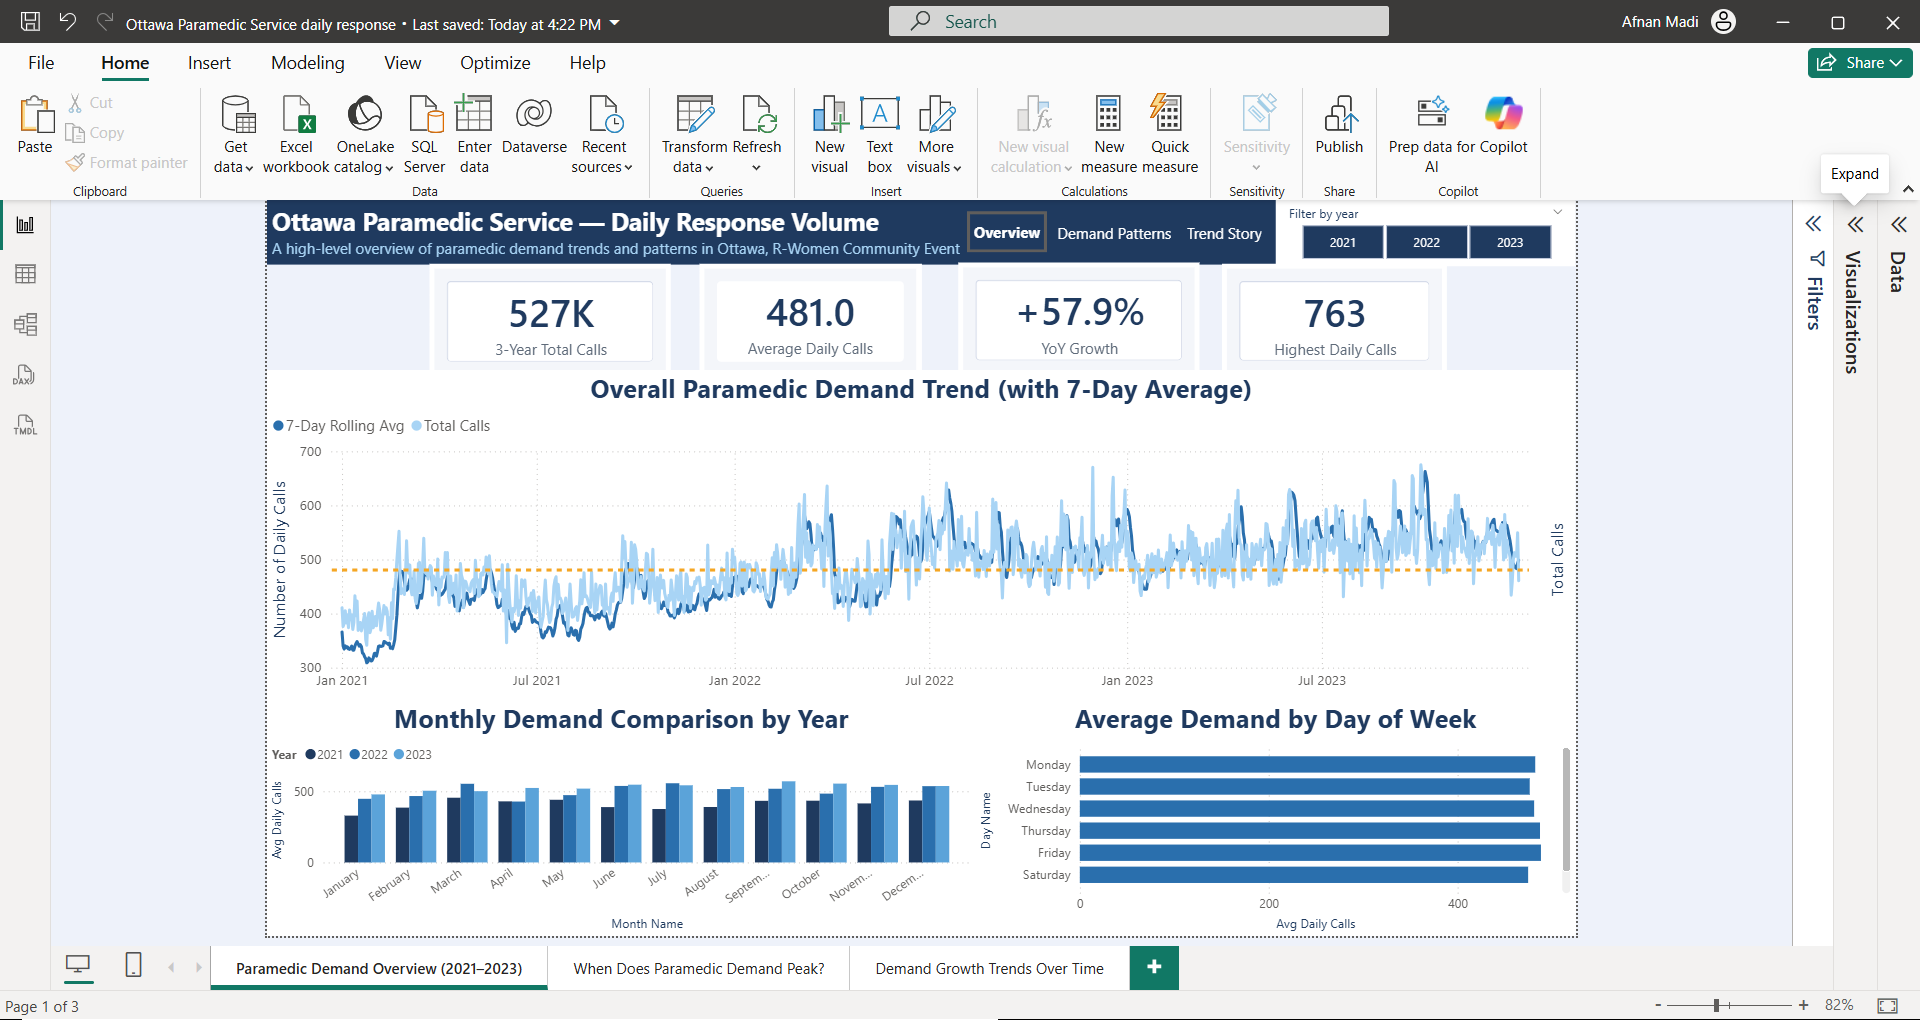

The dashboard page shown, as its layout file describes it:
{"tool":"powerbi","page":{"name":"Paramedic Demand Overview (2021–2023)","canvas":[1280,720],"ordinal":0},"visuals":[{"type":"textbox","box":[0,0,1280.3,63.6],"z":0},{"type":"slicer","fields":{"Values":["DateDim.Date Hierarchy.Year"]},"box":[986.8,0,293.5,64.8],"z":1000},{"type":"cardVisual","fields":{"Data":["Ottawa_Paramedic_Service_daily_response_volume.Avg Daily Calls"]},"box":[423.1,62.4,217.7,113.7],"z":2000},{"type":"cardVisual","fields":{"Data":["Ottawa_Paramedic_Service_daily_response_volume.Total Calls"]},"box":[159,62.4,236,113.7],"z":3000},{"type":"cardVisual","fields":{"Data":["Ottawa_Paramedic_Service_daily_response_volume.Peak Single Day"]},"box":[934.2,62.4,220.1,112.5],"z":4000},{"type":"cardVisual","fields":{"Data":["Ottawa_Paramedic_Service_daily_response_volume.YoY Change %"]},"box":[676.2,61.1,236,113.7],"z":5000},{"type":"lineChart","title":"Overall Paramedic Demand Trend (with 7-Day Average)","fields":{"Category":["DateDim.Date"],"Y":["Ottawa_Paramedic_Service_daily_response_volume.7-Day Rolling Avg"],"Y2":["Ottawa_Paramedic_Service_daily_response_volume.Total Calls"]},"box":[0,166.3,1280.3,322.8],"z":6000},{"type":"clusteredColumnChart","title":"Monthly Demand Comparison by Year","fields":{"Category":["DateDim.Month Name"],"Y":["Ottawa_Paramedic_Service_daily_response_volume.Avg Daily Calls"],"Series":["DateDim.Year"]},"box":[0,489.1,693.3,231.1],"z":7000},{"type":"clusteredBarChart","title":"Average Demand by Day of Week","fields":{"Category":["DateDim.Day Name"],"Y":["Ottawa_Paramedic_Service_daily_response_volume.Avg Daily Calls"]},"box":[693.3,489.1,587,231.1],"z":8000},{"type":"actionButton","box":[684.8,11,78.3,40.4],"z":8001},{"type":"actionButton","box":[763,12.2,132.1,40.4],"z":8002},{"type":"actionButton","box":[886.6,12.2,100.3,40.4],"z":8003}]}

Visuals, with their boxes on the page's 1280x720 design canvas (x1, y1, x2, y2). These are canvas units, not pixel positions in the 1920x1020 screenshot, which may show the page scaled, cropped or inside an application window:
textbox: x1=0 y1=0 x2=1280 y2=64
slicer - DateDim.Date Hierarchy.Year: x1=987 y1=0 x2=1280 y2=65
cardVisual - Ottawa_Paramedic_Service_daily_response_volume.Avg Daily Calls: x1=423 y1=62 x2=641 y2=176
cardVisual - Ottawa_Paramedic_Service_daily_response_volume.Total Calls: x1=159 y1=62 x2=395 y2=176
cardVisual - Ottawa_Paramedic_Service_daily_response_volume.Peak Single Day: x1=934 y1=62 x2=1154 y2=175
cardVisual - Ottawa_Paramedic_Service_daily_response_volume.YoY Change %: x1=676 y1=61 x2=912 y2=175
"Overall Paramedic Demand Trend (with 7-Day Average)" lineChart: x1=0 y1=166 x2=1280 y2=489
"Monthly Demand Comparison by Year" clusteredColumnChart: x1=0 y1=489 x2=693 y2=720
"Average Demand by Day of Week" clusteredBarChart: x1=693 y1=489 x2=1280 y2=720
actionButton: x1=685 y1=11 x2=763 y2=51
actionButton: x1=763 y1=12 x2=895 y2=53
actionButton: x1=887 y1=12 x2=987 y2=53
